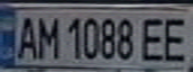0: (78, 12, 100, 60)
1: (63, 12, 84, 60)
8: (115, 15, 139, 62), (100, 15, 118, 61)
A: (12, 12, 39, 61)
E: (157, 12, 193, 63), (136, 14, 172, 63)
M: (33, 11, 60, 60)
